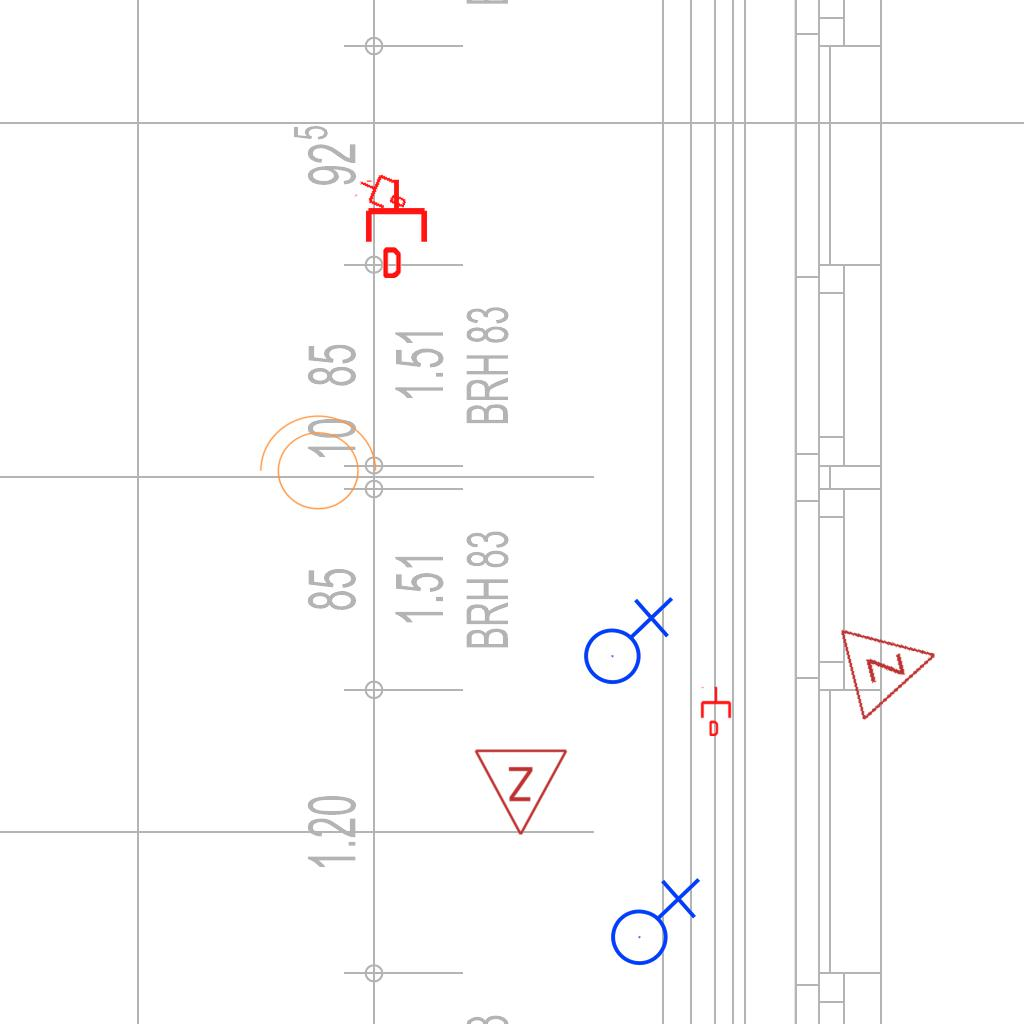Datenanschluss_einfach: (362, 178, 431, 278), (353, 166, 413, 218), (699, 686, 733, 736)
Elektroanschluss_allgemein_230V_Geraeteanschlussdose_230V: (602, 873, 701, 967), (575, 592, 674, 686)
Scheinwerfer_fuer_Alarmbeleuchtung: (249, 410, 381, 522)
Zimmersignalleuchte: (832, 604, 954, 724), (473, 742, 571, 842)
